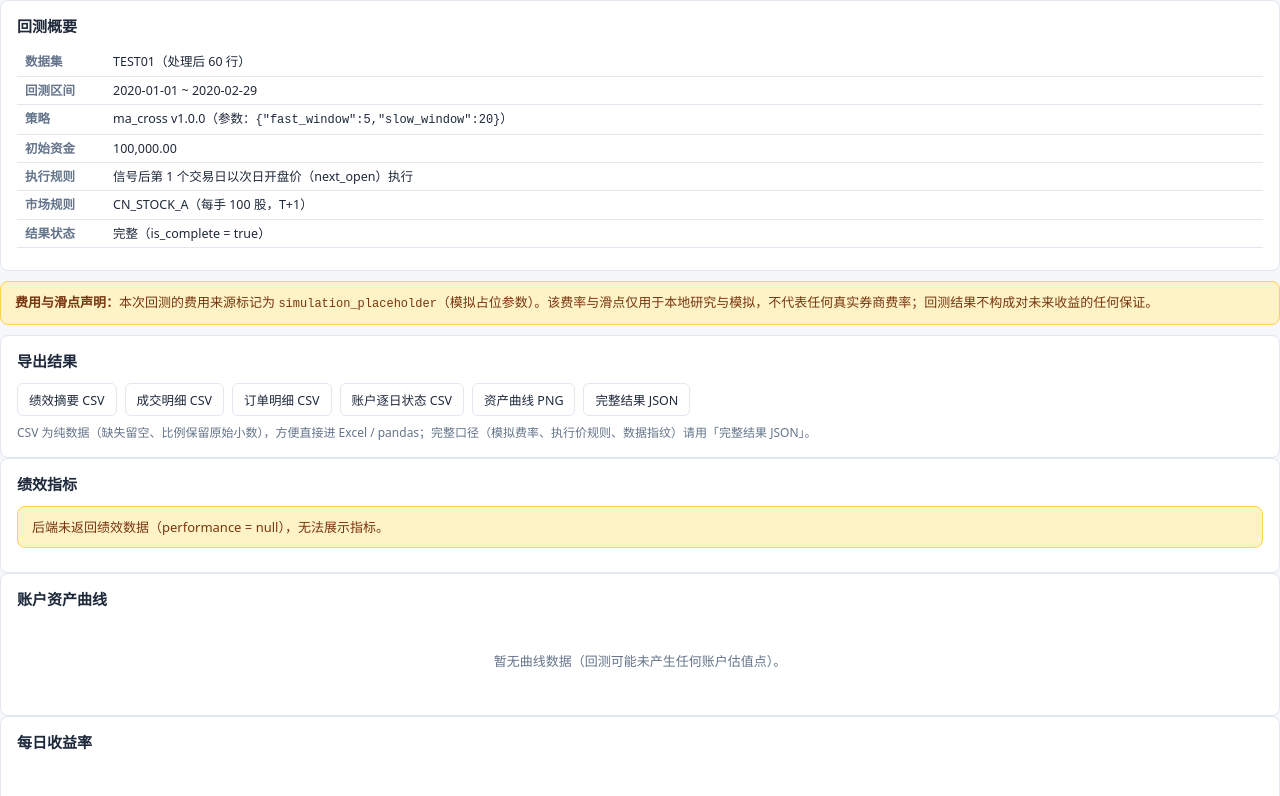
it: ResultView 导出 › 图表未渲染时 PNG 导出报错并提示改用 JSON，而不是静默下载空白图
The width and height of the screenshot is (1280, 796).
Click the button with test id "export-equity" at [524, 399], box [472,383,576,416]
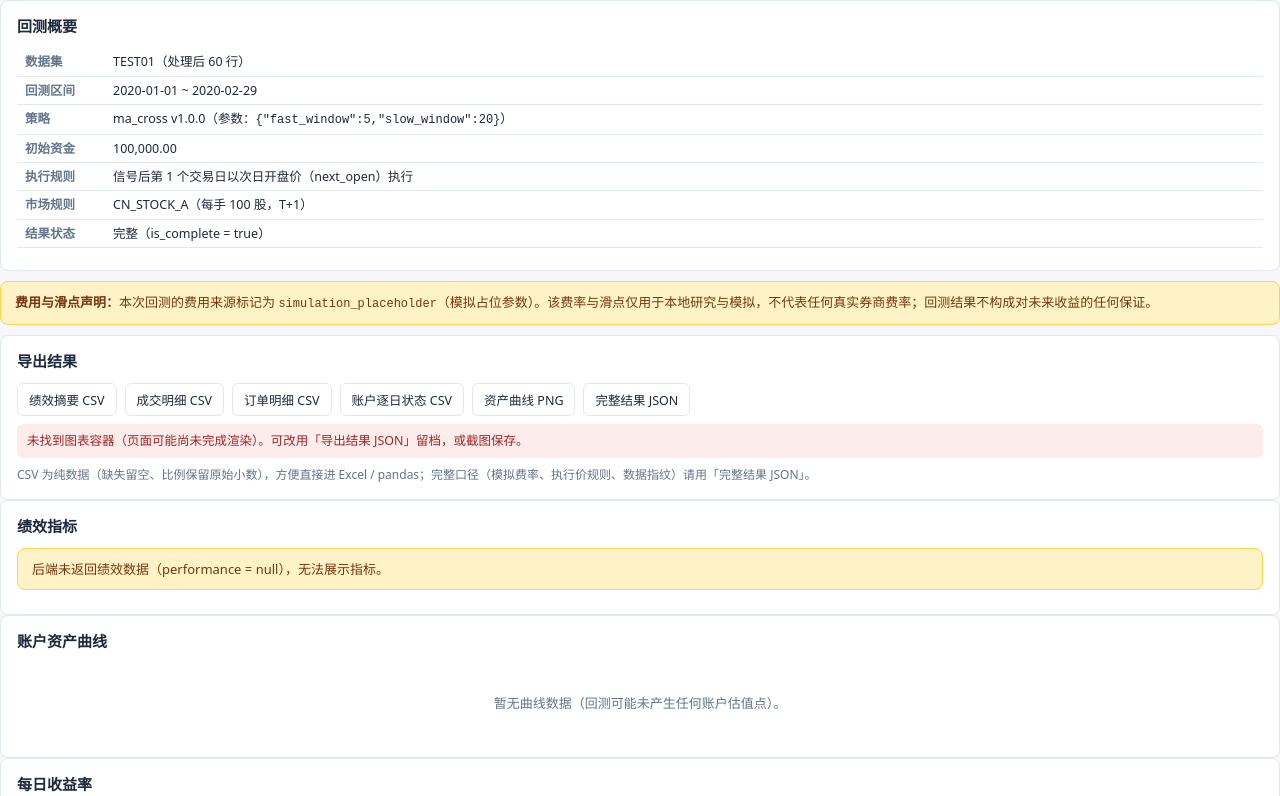
Now the message with test id "export-feedback" reads "未找到图表容器（页面可能尚未完成渲染）。可改用「导出结果 JSON」留档，或截图保存。", box [27,432,528,449]
